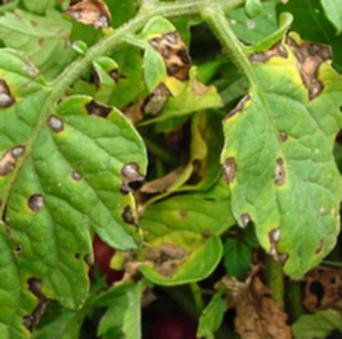Tomato leaf bacterial spot: (0, 59, 167, 339), (211, 12, 342, 313), (119, 175, 248, 298), (111, 7, 205, 100)
